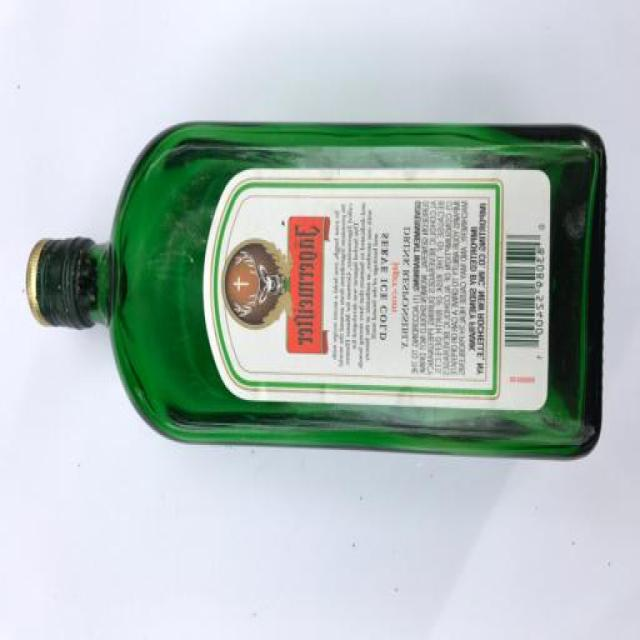glass: (28, 120, 609, 460)
